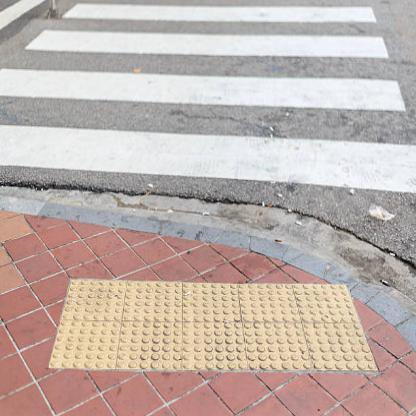podotacti: (52, 277, 379, 372)
